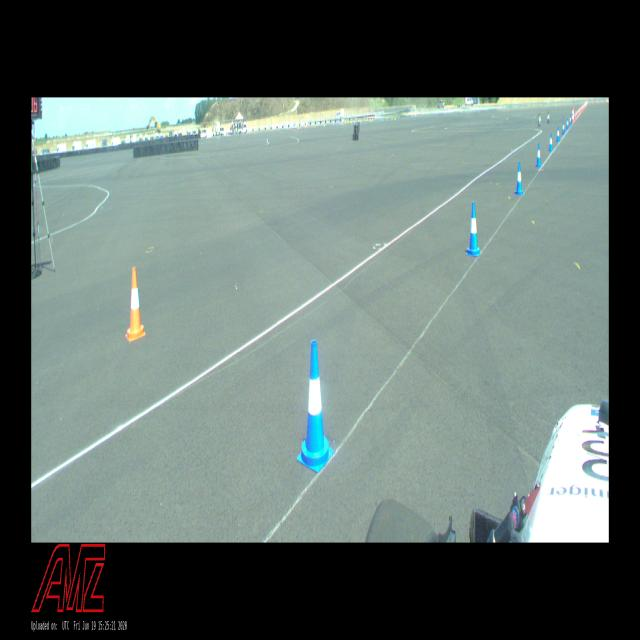blue_cone: (297, 340, 334, 473), (466, 202, 481, 257), (515, 162, 523, 196), (536, 143, 542, 168), (549, 132, 553, 152), (556, 126, 560, 142), (562, 121, 565, 135), (566, 117, 569, 129), (569, 115, 572, 126)
large_orange_cone: (571, 108, 574, 123)
orange_cone: (126, 267, 146, 342)
